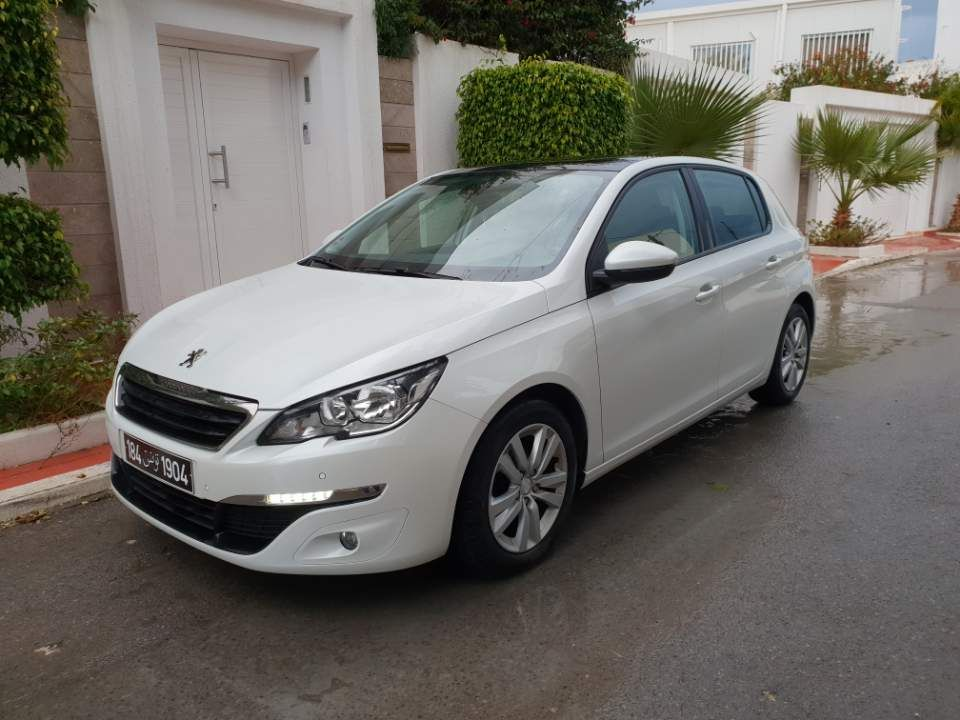LP: (123, 435, 195, 492)
